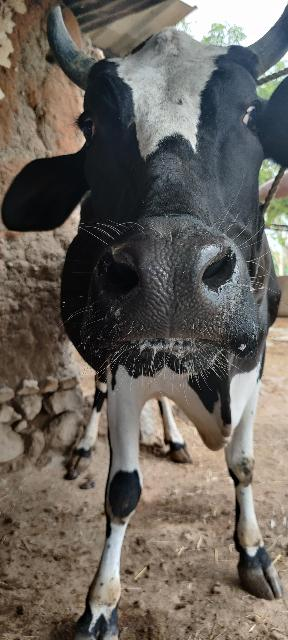Muzzle: (98, 231, 254, 343)
